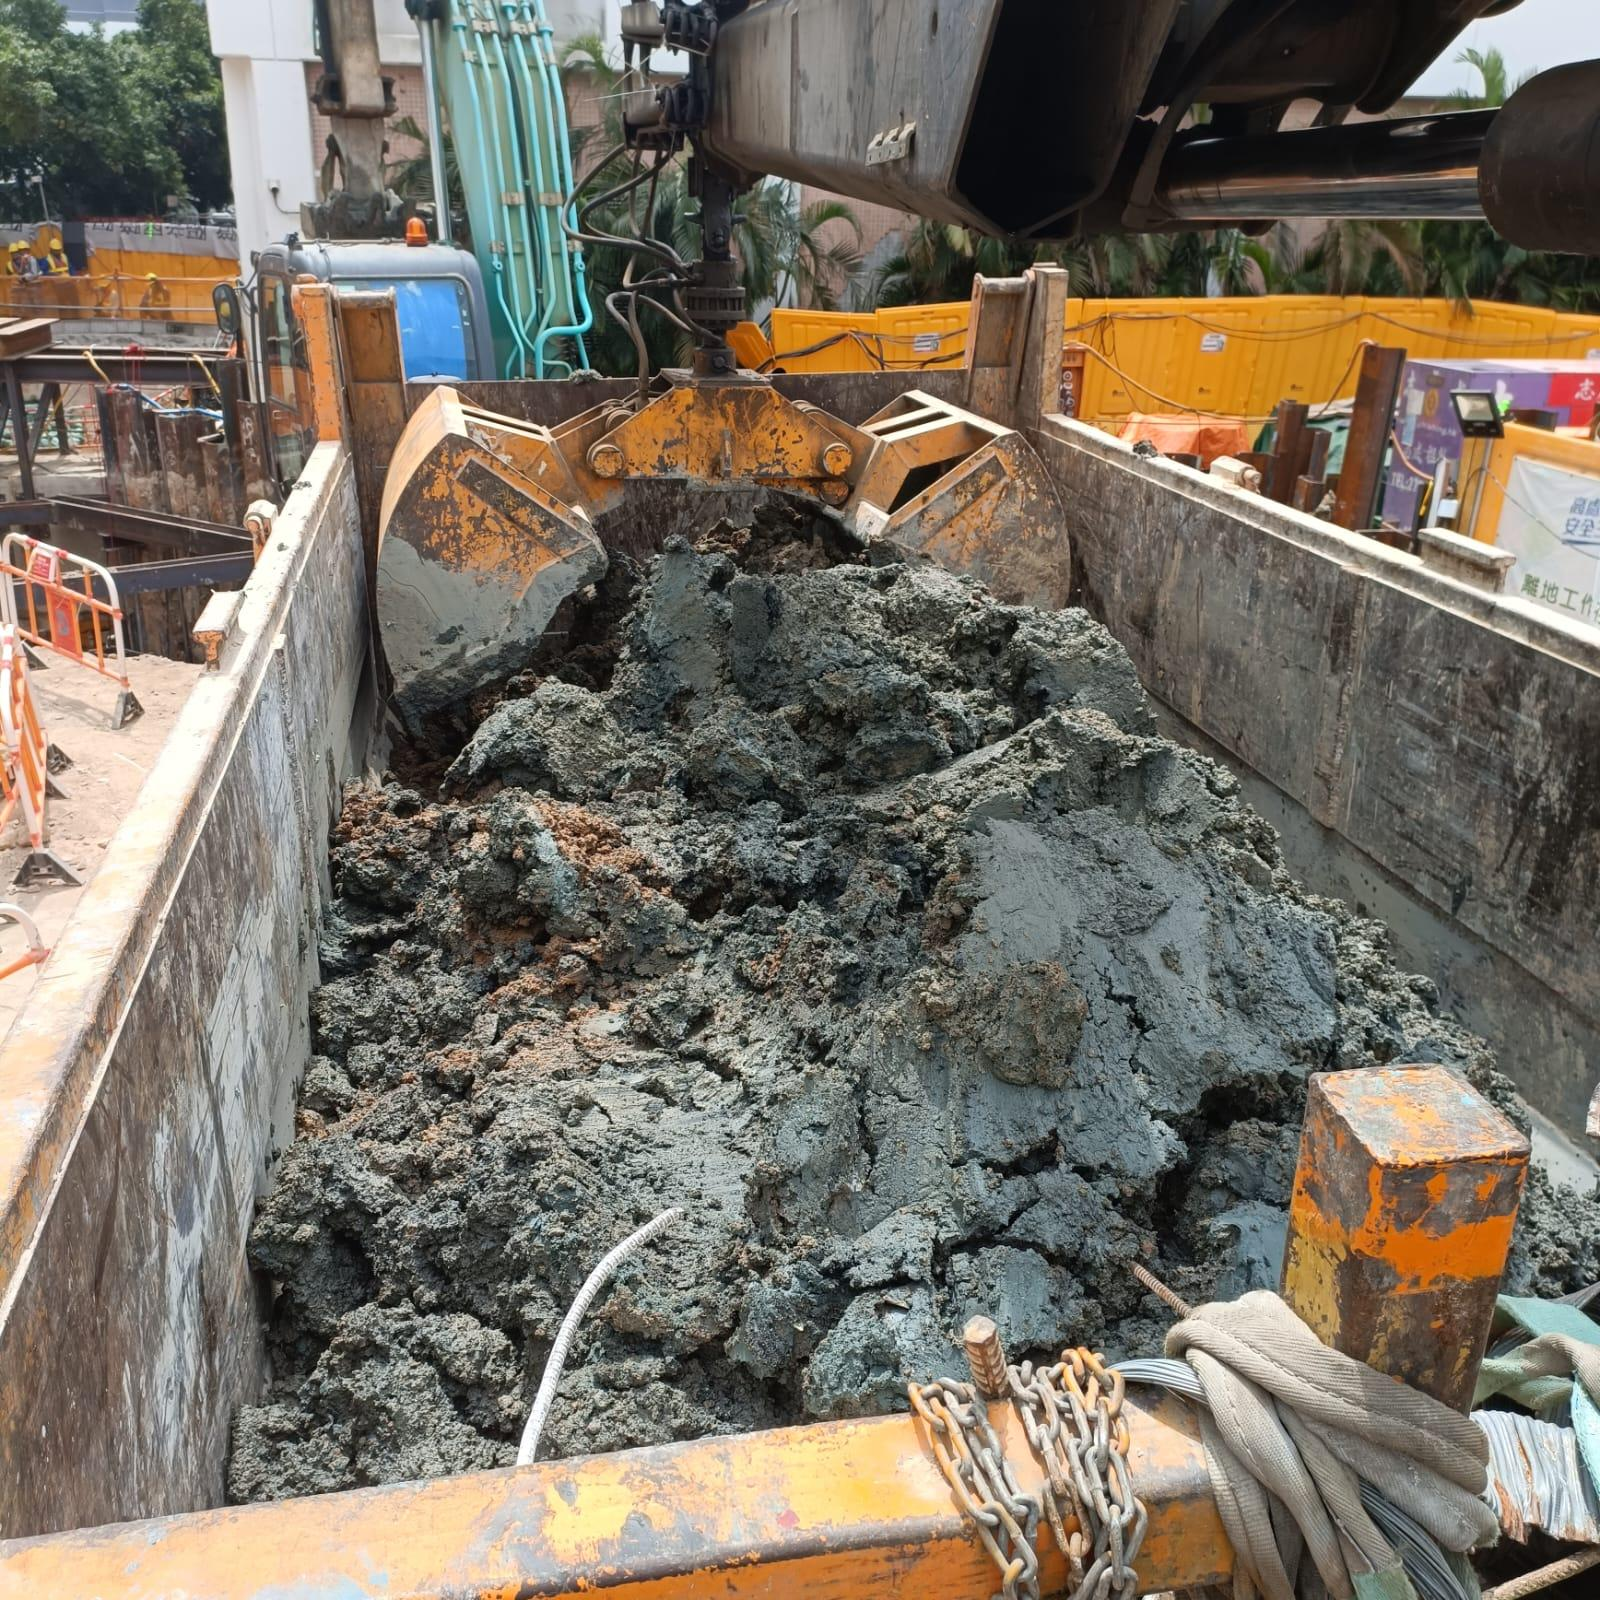wet: (230, 549, 1452, 1495)
